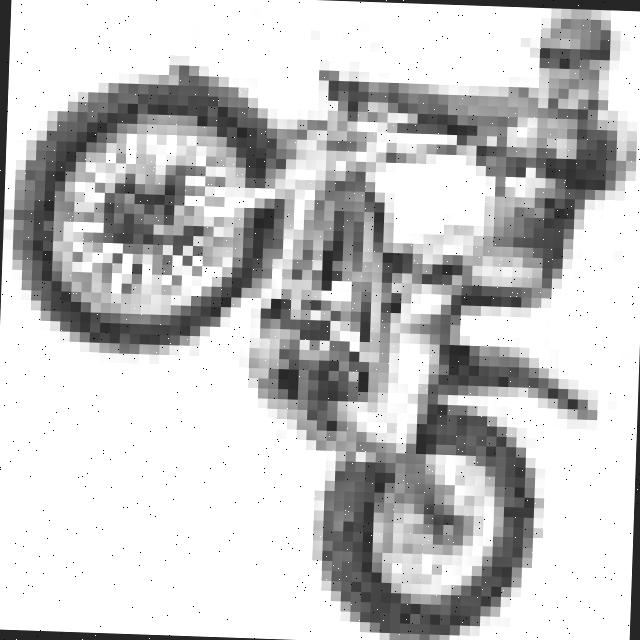mopeds: (4, 72, 629, 640)
